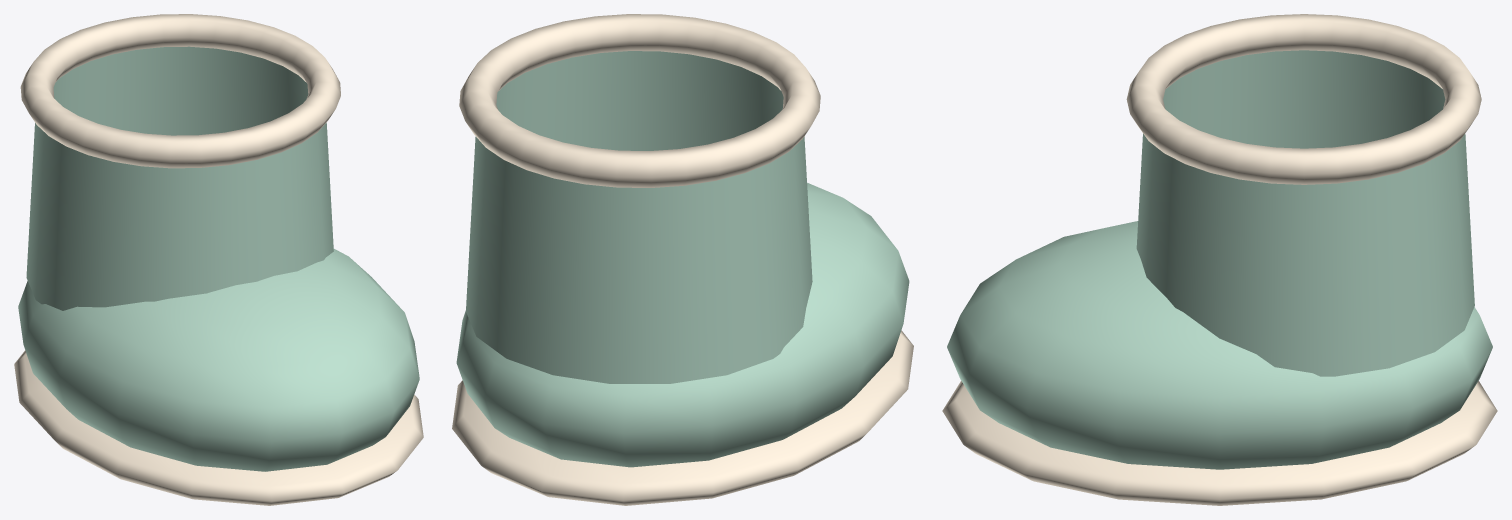
The model's file is boots_rain.glb.
The picture shows the model from 3 angles, left to right: view 1: azimuth 30°, elevation 25°; view 2: azimuth 150°, elevation 25°; view 3: azimuth 270°, elevation 25°; orthographic projection. The views are drawn at different scales.
Parts seen in each view (by area): view 1: Botitas lluvia; view 2: Botitas lluvia; view 3: Botitas lluvia.
Boxes of the visible parts, box(x1,y1,x2,y2) form: Botitas lluvia: box(14, 14, 423, 505); Botitas lluvia: box(452, 14, 913, 505); Botitas lluvia: box(942, 14, 1497, 505).
Size of the model in its own units: 0.184 by 0.1769 by 0.244.
